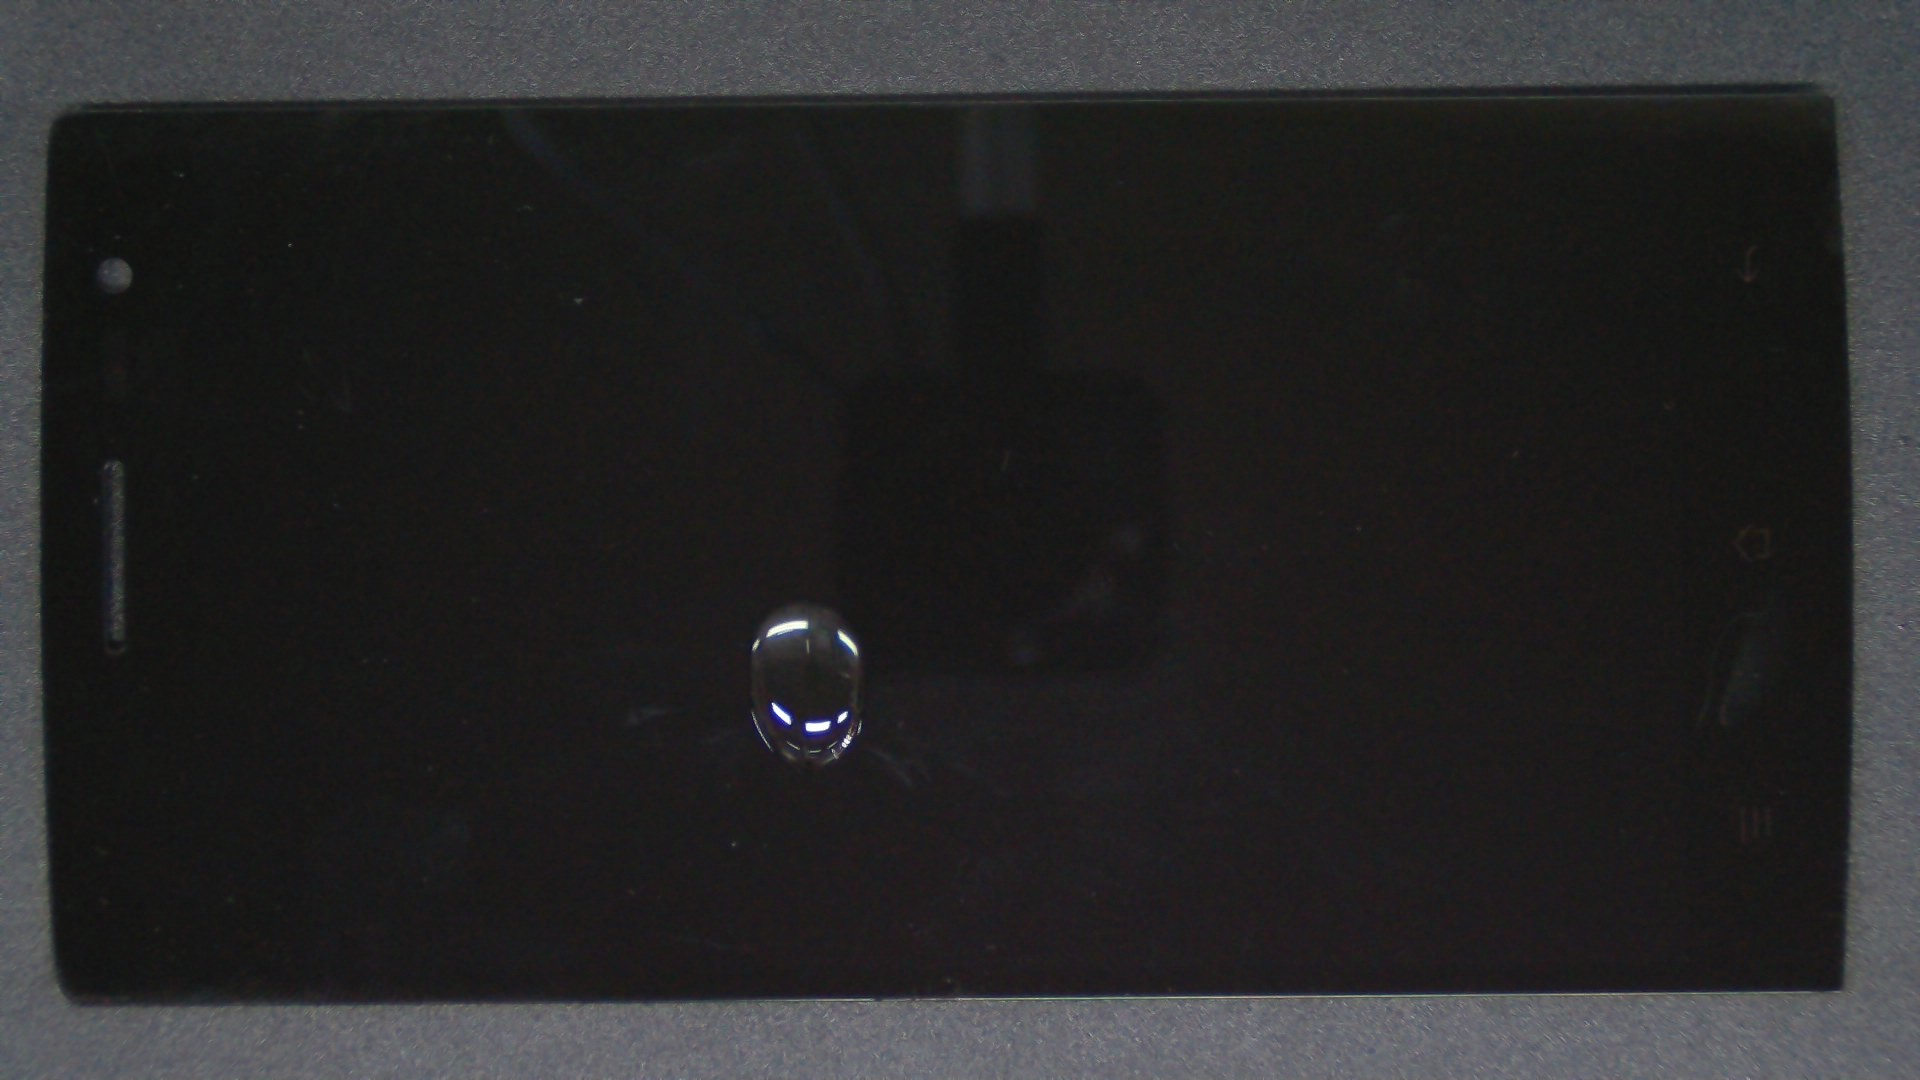oil: (400, 301, 1196, 905)
